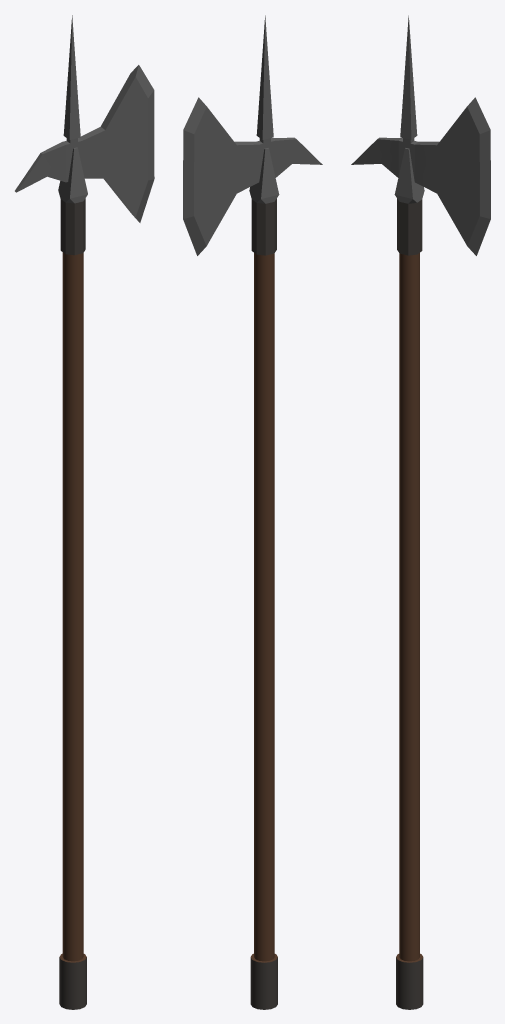
Rendered from Halberd.fbx.
3 renders of one model, left to right at view 1: azimuth 30°, elevation 25°; view 2: azimuth 210°, elevation 25°; view 3: azimuth 330°, elevation 25°, orthographic.
Parts seen in each view (by area): view 1: Halberd_Baked; view 2: Halberd_Baked; view 3: Halberd_Baked.
Boxes of the visible parts, box(x1,y1,x2,y2) form: Halberd_Baked: box(15, 15, 154, 1009); Halberd_Baked: box(183, 15, 322, 1009); Halberd_Baked: box(351, 15, 490, 1009).
Size of the model in its own units: 26.05 by 177 by 4.46.
Materials: 1 (1 with a texture image).
